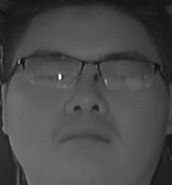glass: (18, 52, 87, 94), (95, 56, 159, 97)
mouth: (54, 117, 115, 152)
